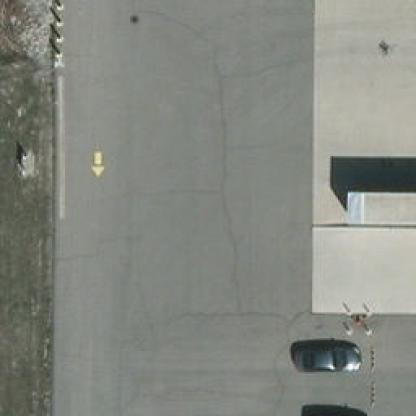car: (292, 344, 362, 370)
